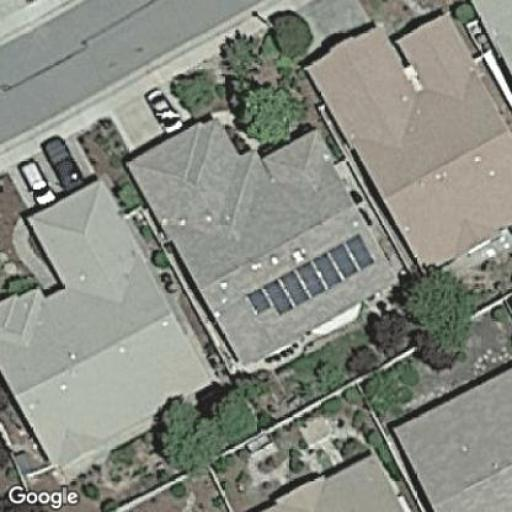solar-panel: (246, 235, 377, 315)
